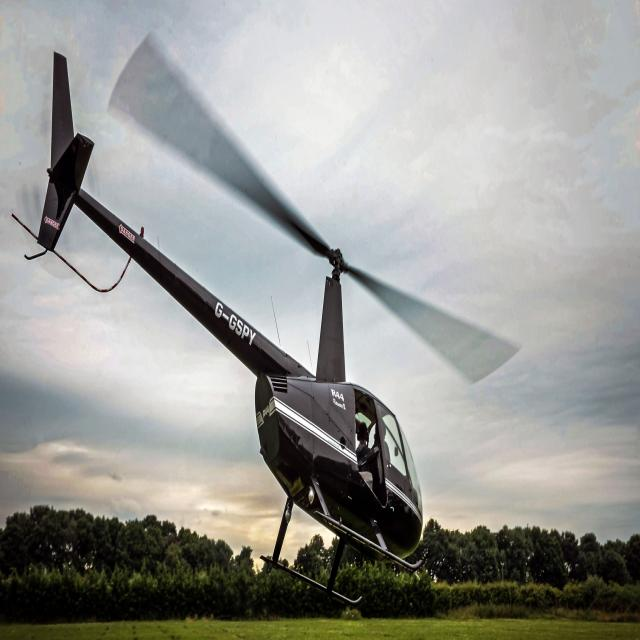helicopter: (12, 32, 521, 607)
